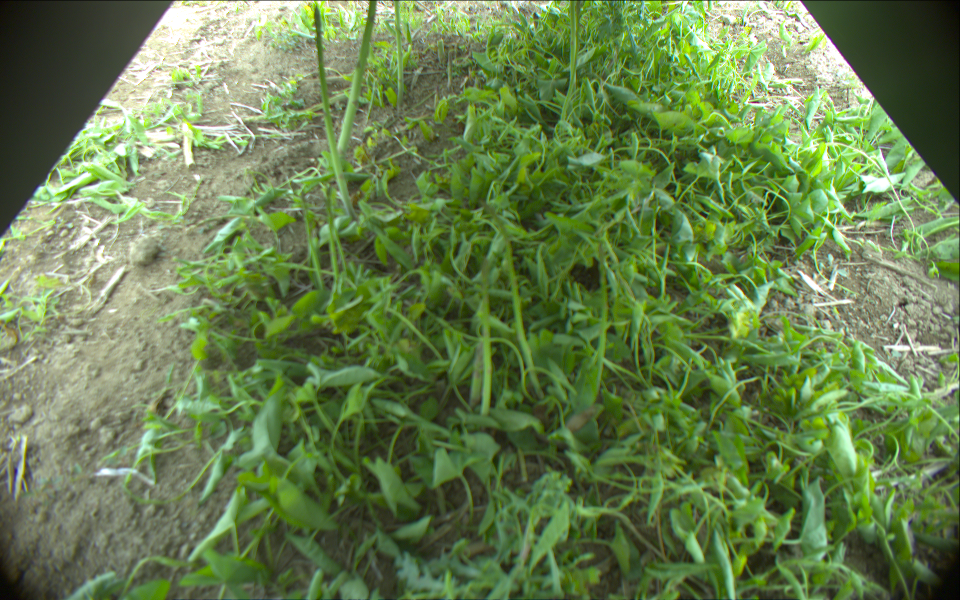aspa: (474, 197, 541, 393), (314, 5, 355, 218), (336, 1, 379, 157), (591, 229, 607, 414), (561, 1, 579, 128), (478, 255, 490, 426), (391, 1, 404, 108), (469, 346, 484, 410), (567, 1, 577, 90)
